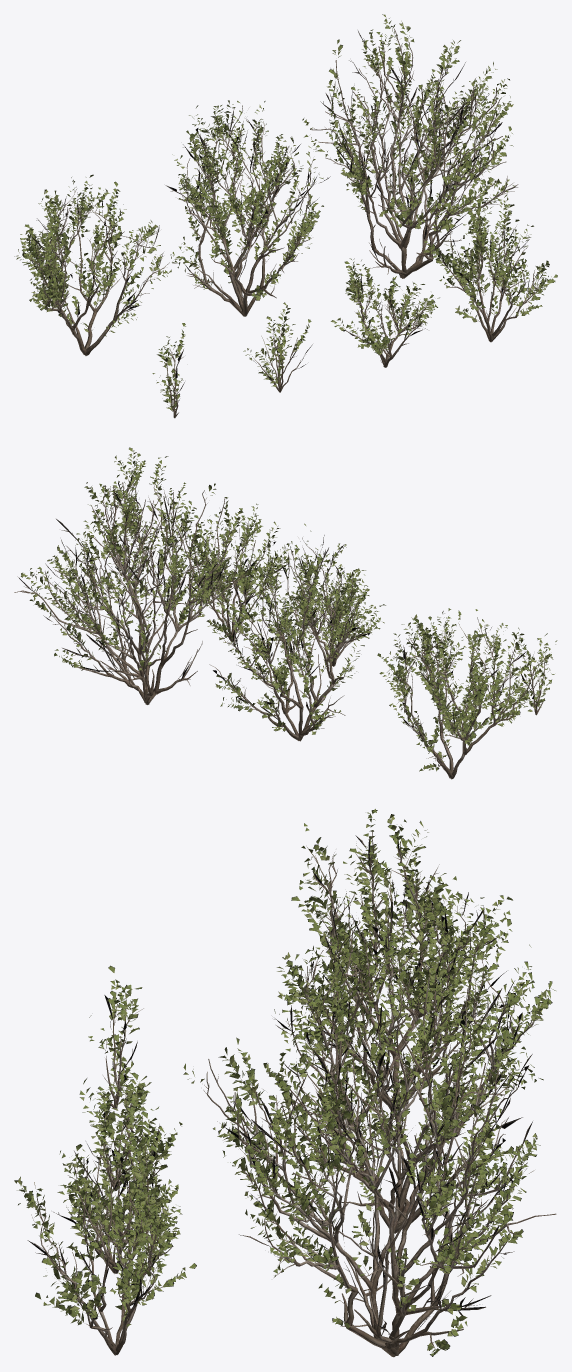
The model's file is searsia_lucida.glb.
3 views of the same model, one above another, from view 1: azimuth 30°, elevation 25°; view 2: azimuth 150°, elevation 25°; view 3: azimuth 270°, elevation 25° (orthographic). The views are drawn at different scales.
Visible parts, largest first — view 1: searsia_lucida_a_LOD0; view 2: searsia_lucida_a_LOD0; view 3: searsia_lucida_a_LOD0.
Part boxes in pixels (bbox=[...]): searsia_lucida_a_LOD0: bbox=[14, 14, 557, 418]; searsia_lucida_a_LOD0: bbox=[14, 447, 557, 779]; searsia_lucida_a_LOD0: bbox=[14, 809, 556, 1357].
Bounding box in the file's own units: 4.75 × 2.32 × 2.83.
Materials: 2 (2 with a texture image).
